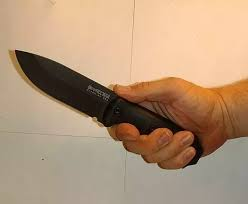weapon-unusual: (5, 41, 206, 161)
